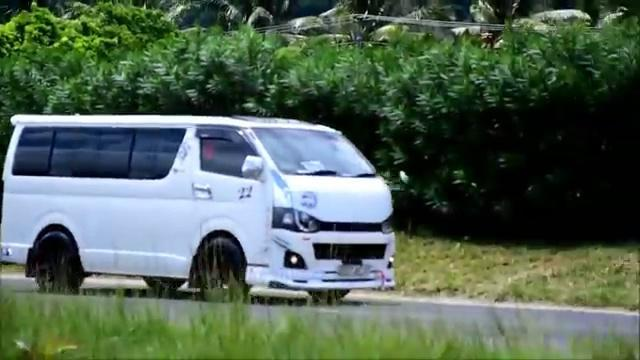Van: (2, 105, 400, 313)
